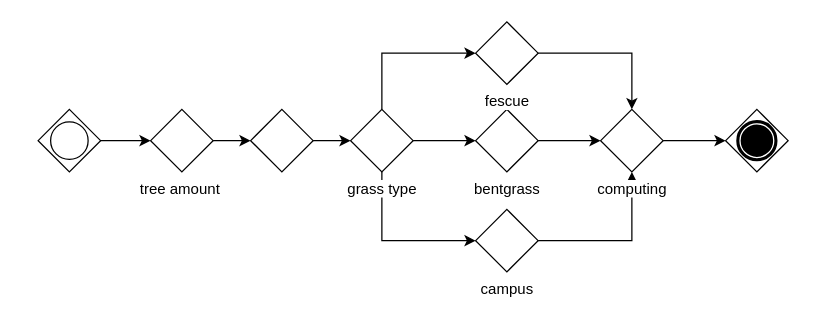
Some shapes in this 826 by 320 pixel diagram are drawn without their labels. The centre of each missing label's shape, as x and y in pixels:
"depth/width" belongs at point (281, 140).
"house number" belongs at point (69, 140).
"lawn care cost" belongs at point (756, 140).
